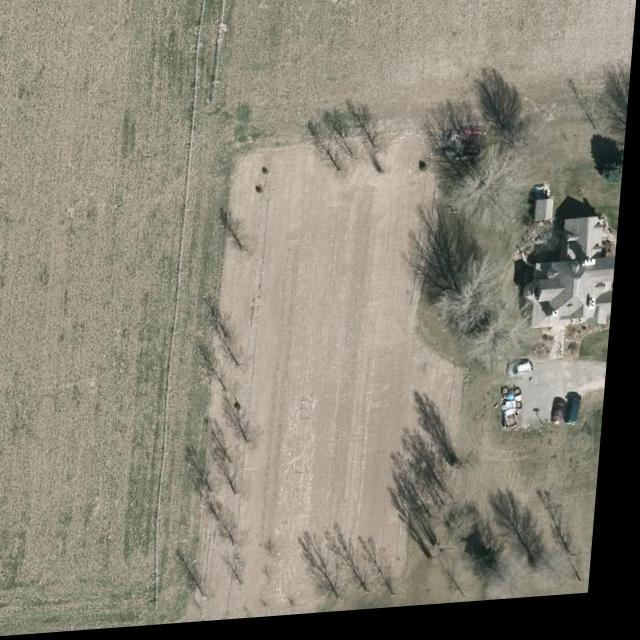vehicle: (573, 403, 590, 436), (512, 368, 542, 385), (509, 410, 526, 437), (559, 407, 574, 436)
